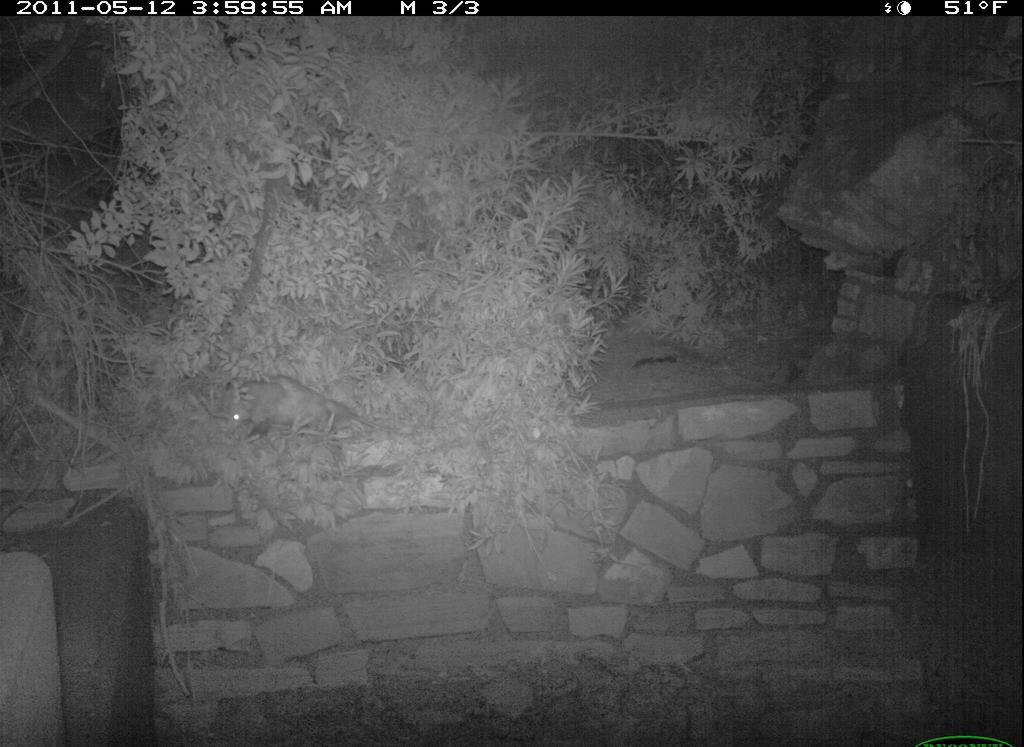opossum: (222, 368, 367, 455)
